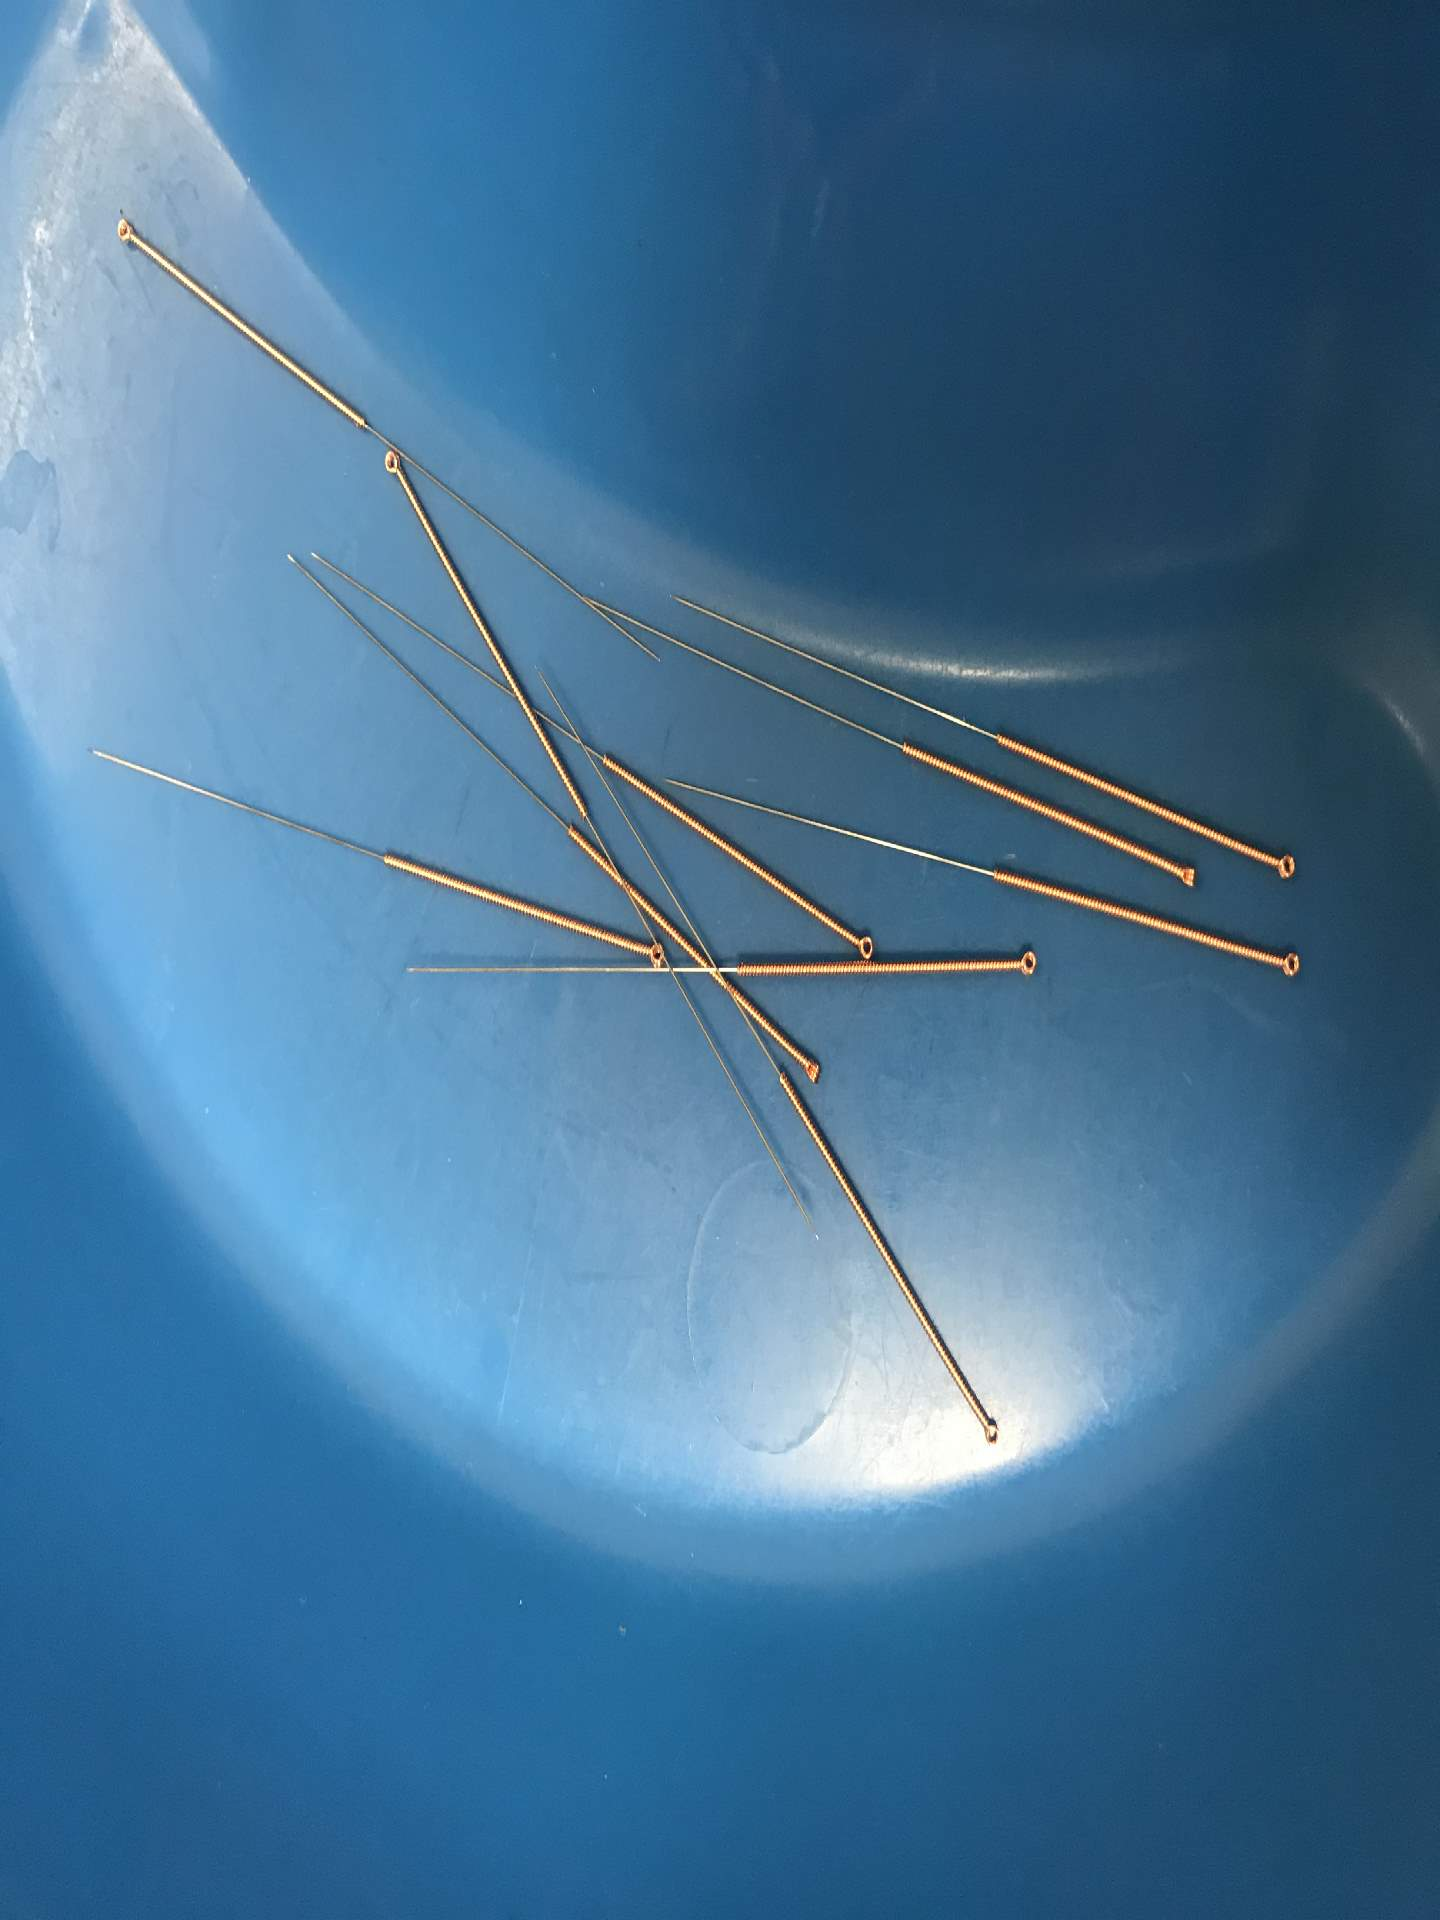needle: (1262, 844, 1305, 889), (1268, 943, 1308, 986), (1163, 856, 1206, 897), (1004, 940, 1045, 981), (970, 1407, 1007, 1451), (793, 1048, 830, 1092), (107, 209, 145, 252), (635, 937, 672, 977), (374, 443, 407, 485), (849, 924, 882, 965)
